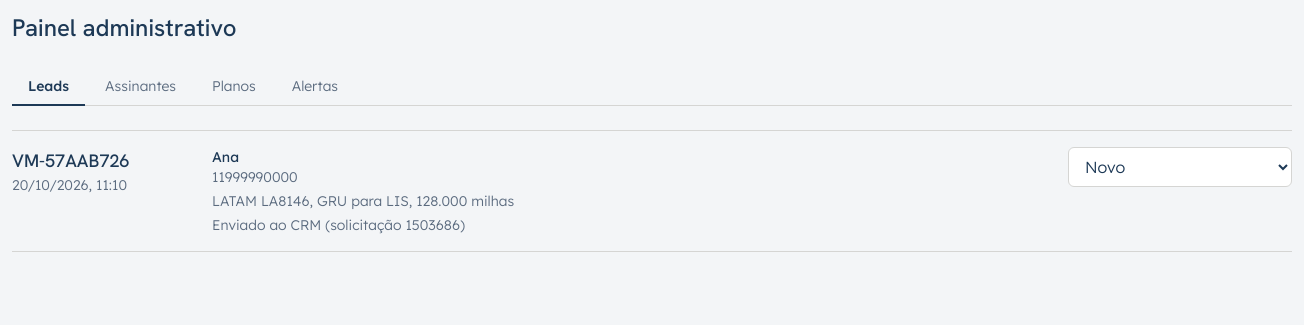
Test: Admin › mostra os assinantes
Click the tab "Assinantes" at point(141, 87), box top-left (89, 68), bottom-right (192, 106)
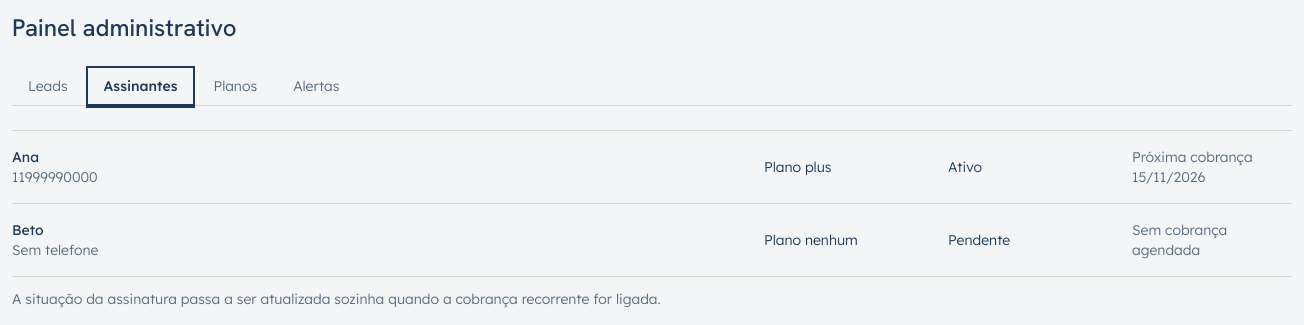
Now the text "Plano plus" is shown, box top-left (764, 158), bottom-right (832, 176)
Now the text "Próxima cobrança 15/11/2026" is shown, box top-left (1132, 148), bottom-right (1253, 186)
Now the text "Sem cobrança agendada" is shown, box top-left (1132, 221), bottom-right (1227, 259)
